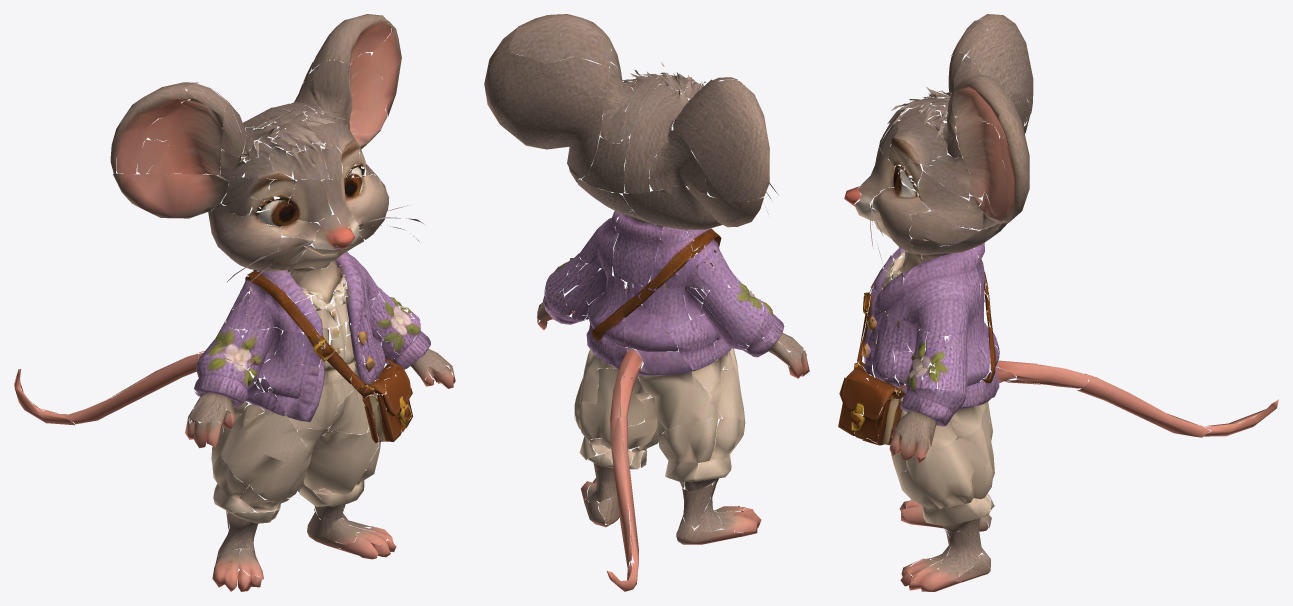
Rendered from 14_riverside_mouse-mobile-v1.glb.
3 views of the same model, side by side, from view 1: azimuth 30°, elevation 25°; view 2: azimuth 150°, elevation 25°; view 3: azimuth 270°, elevation 25° (orthographic). The views are drawn at different scales.
Visible parts, largest first — view 1: tripo_node_564d035a-f7a9-4add-a758-f0a61d32a5b9; view 2: tripo_node_564d035a-f7a9-4add-a758-f0a61d32a5b9; view 3: tripo_node_564d035a-f7a9-4add-a758-f0a61d32a5b9.
Boxes of the visible parts, x1=… form: tripo_node_564d035a-f7a9-4add-a758-f0a61d32a5b9: x1=14, y1=14, x2=455, y2=591; tripo_node_564d035a-f7a9-4add-a758-f0a61d32a5b9: x1=484, y1=14, x2=809, y2=591; tripo_node_564d035a-f7a9-4add-a758-f0a61d32a5b9: x1=838, y1=14, x2=1278, y2=591.
Size of the model in its own units: 0.8622 by 1.45 by 1.13.
Materials: 1 (1 with a texture image).
